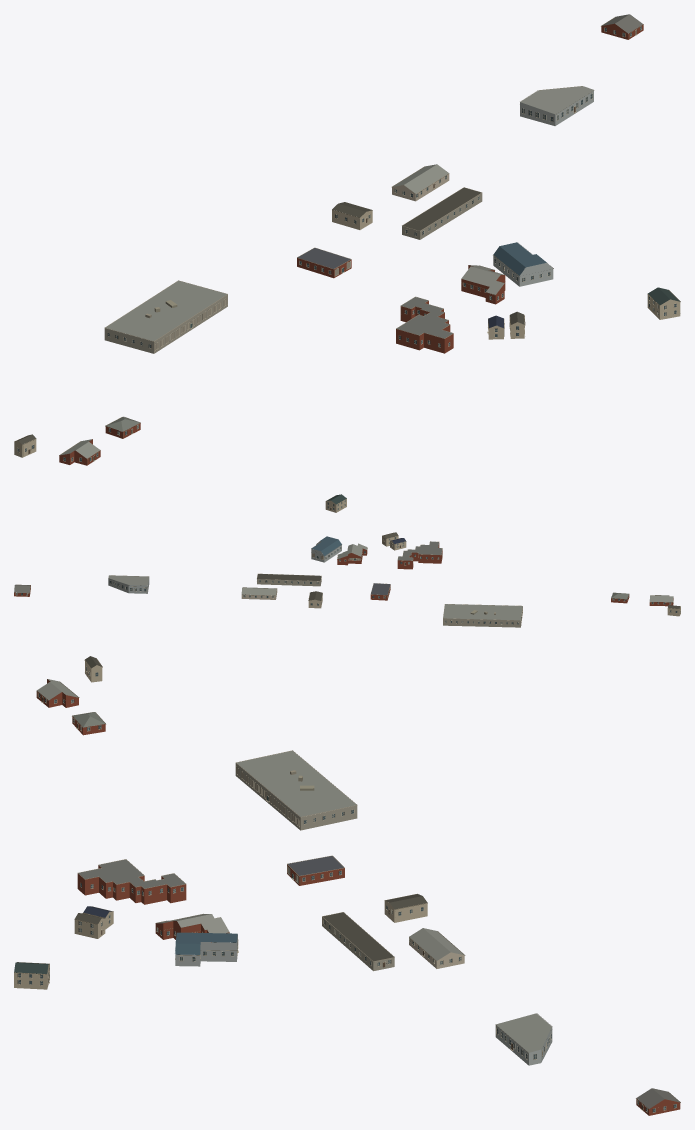
3 renders of one model, top to bottom at view 1: azimuth 30°, elevation 25°; view 2: azimuth 150°, elevation 25°; view 3: azimuth 270°, elevation 25°, orthographic. The views are drawn at different scales.
Visible parts, largest first — view 1: -6_-1_270512561_0, -6_-1_271951876_9, -6_-1_270512563_2, -6_-1_271668695_5; view 2: -6_-1_270512561_0, -6_-1_271951876_9, -6_-1_270512563_2, -6_-1_271668695_5; view 3: -6_-1_270512561_0, -6_-1_271951876_9, -6_-1_270512563_2, -6_-1_271668695_5.
Part boxes in pixels (x1=…): -6_-1_270512561_0: x1=14, y1=14, x2=680, y2=465; -6_-1_271951876_9: x1=104, y1=193, x2=482, y2=353; -6_-1_270512563_2: x1=14, y1=209, x2=680, y2=457; -6_-1_271668695_5: x1=493, y1=90, x2=593, y2=286; -6_-1_270512561_0: x1=14, y1=494, x2=680, y2=624; -6_-1_271951876_9: x1=257, y1=577, x2=522, y2=627; -6_-1_270512563_2: x1=308, y1=499, x2=680, y2=616; -6_-1_271668695_5: x1=108, y1=541, x2=341, y2=593; -6_-1_270512561_0: x1=14, y1=656, x2=680, y2=1115; -6_-1_271951876_9: x1=235, y1=763, x2=394, y2=971; -6_-1_270512563_2: x1=14, y1=660, x2=427, y2=989; -6_-1_271668695_5: x1=175, y1=934, x2=552, y2=1065.
Bounding box in the file's own units: 460 × 17.11 × 278.
